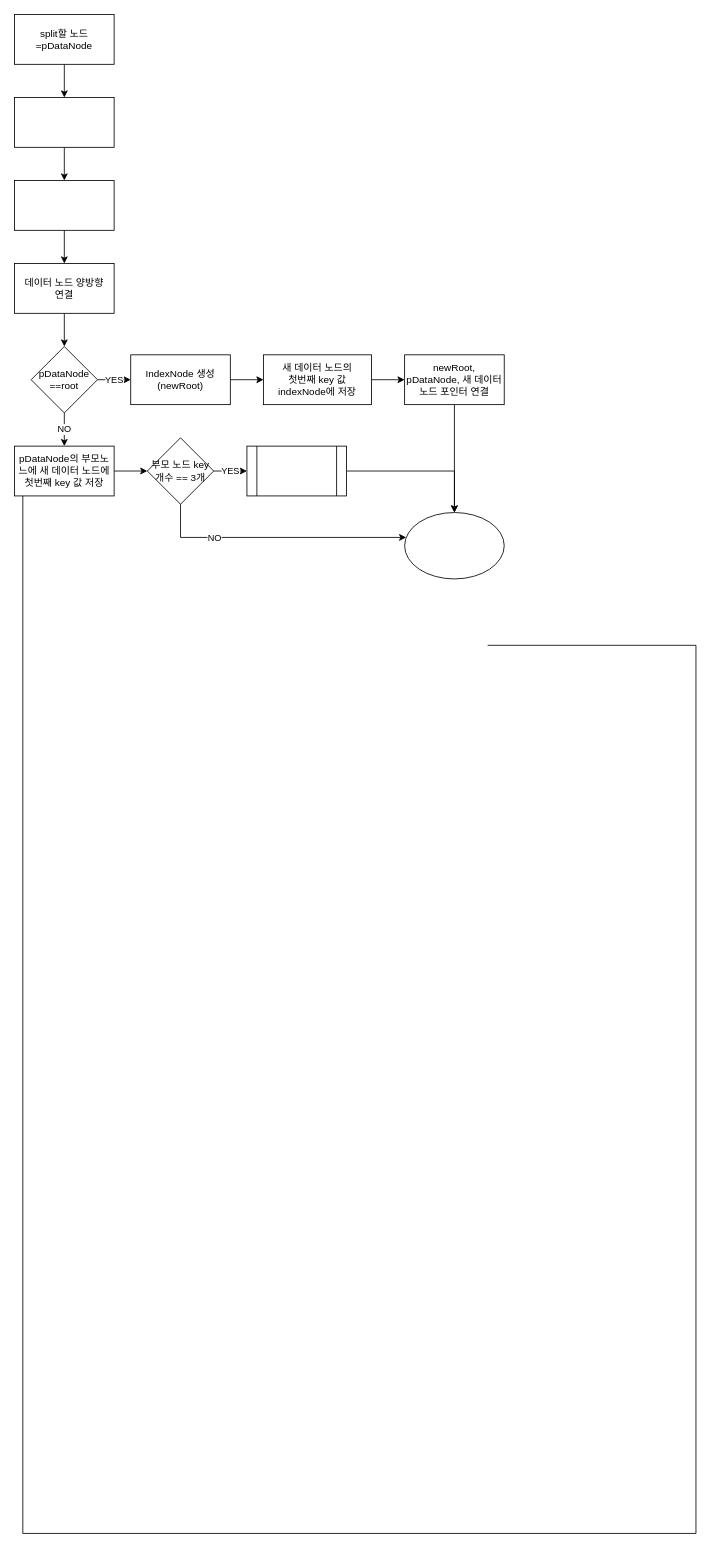
This 717x1555 diagram has some shape labels left out. The shapes that lost their labels are listed below. From the top down, each one's box as (x1, y1, x2, y2) in pixels, then its label:
(14, 97, 114, 147): 새 dataNode 생성
(14, 180, 114, 230): 2, 3번째 key 새 노드로 이동
(246, 445, 347, 496): splitIndexNode 함수 호출
(404, 512, 504, 579): 함수 종료
